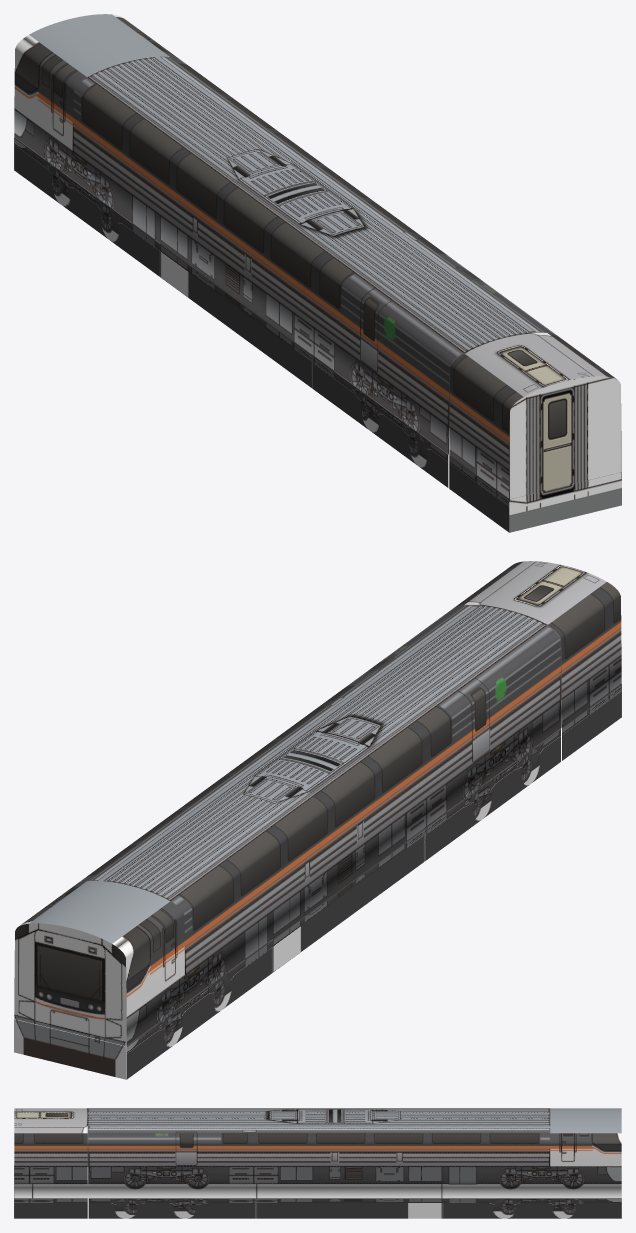
File: car2.glb
3 renders of one model, top to bottom at view 1: azimuth 30°, elevation 25°; view 2: azimuth 150°, elevation 25°; view 3: azimuth 270°, elevation 25°, orthographic. The views are drawn at different scales.
Parts seen in each view (by area): view 1: jr-tokai-383-car2; view 2: jr-tokai-383-car2; view 3: jr-tokai-383-car2.
Part boxes in pixels (x1=…): jr-tokai-383-car2: x1=14, y1=14, x2=621, y2=532; jr-tokai-383-car2: x1=14, y1=561, x2=621, y2=1079; jr-tokai-383-car2: x1=14, y1=1108, x2=621, y2=1218.
Bounding box in the file's own units: 2.88 × 3.37 × 21.95.
9 materials, 8 textured.
